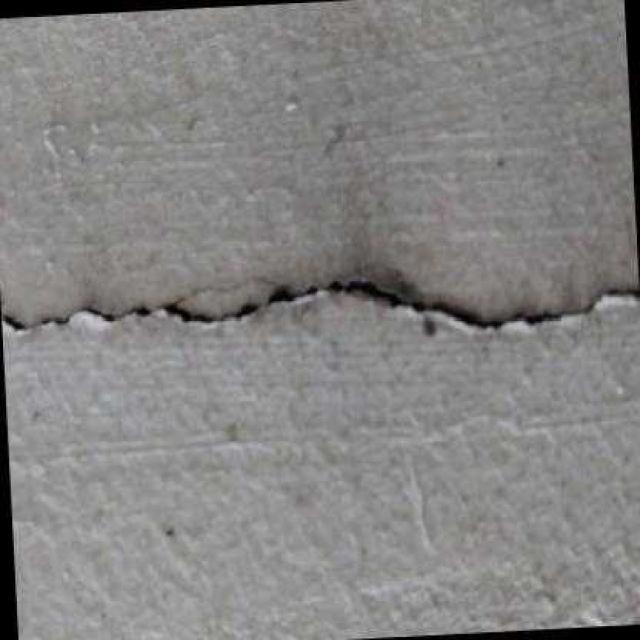D00: (0, 278, 639, 330)
